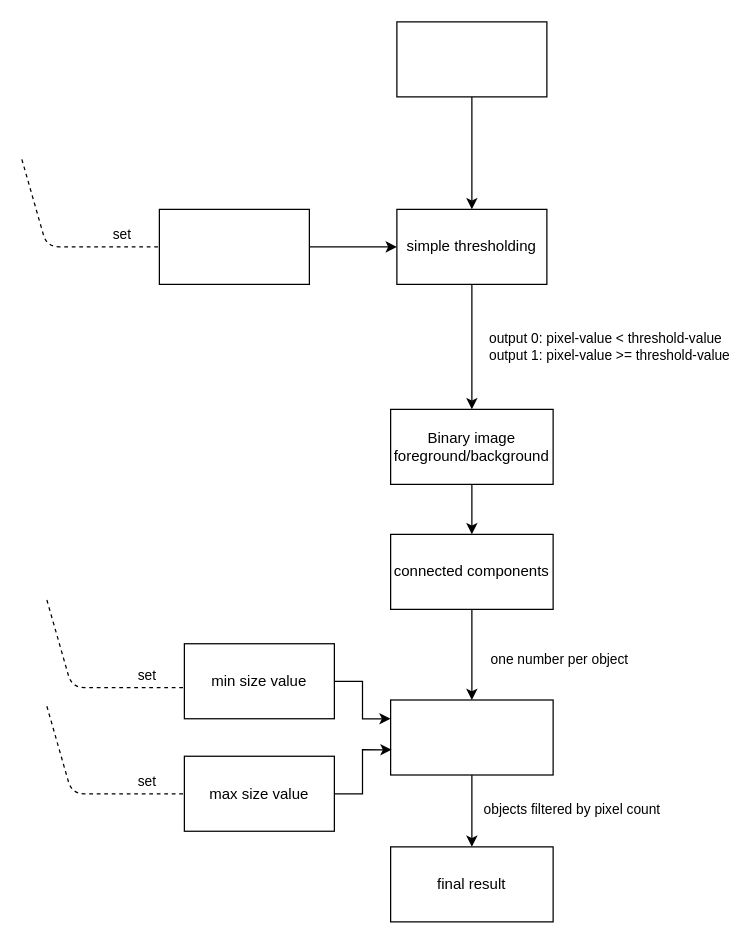
Some shapes in this 751 by 944 pixel diagram are drawn without their labels. The box of each missing label's shape, as (x1, y1, x2, y2) in pixels:
Intensity Image, e.g. greyscale: (396, 21, 547, 97)
size filter: (389, 699, 553, 775)
threshold value: (158, 208, 309, 284)
